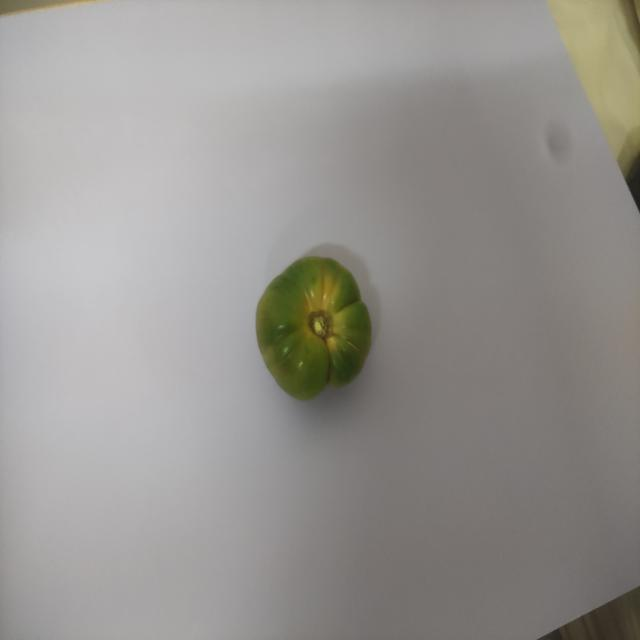yesil: (240, 244, 384, 396)
